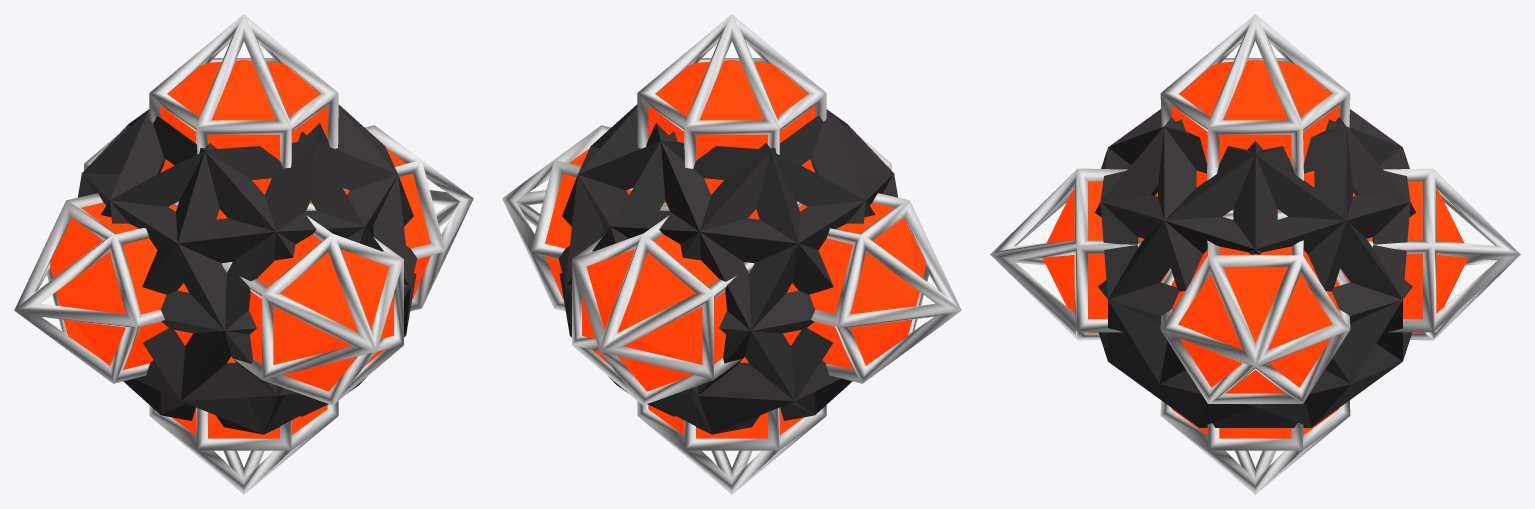
File: mine_model.fbx
The picture shows the model from 3 angles, left to right: view 1: azimuth 30°, elevation 25°; view 2: azimuth 150°, elevation 25°; view 3: azimuth 270°, elevation 25°; orthographic projection.
Parts seen in each view (by area): view 1: Icosphere.004, Cylinder.001, Cylinder; view 2: Icosphere.004, Cylinder.001, Cylinder; view 3: Icosphere.004, Cylinder.001, Cylinder.
Part boxes in pixels (x1,y1,x2,y2): Icosphere.004: (78,104,417,434); Cylinder.001: (14,14,473,494); Cylinder: (50,60,430,438); Icosphere.004: (558,104,897,434); Cylinder.001: (502,14,961,494); Cylinder: (545,60,925,438); Icosphere.004: (1095,109,1415,427); Cylinder.001: (990,14,1520,494); Cylinder: (1042,60,1468,438).
Bounding box in the file's own units: 185 × 185 × 185.
